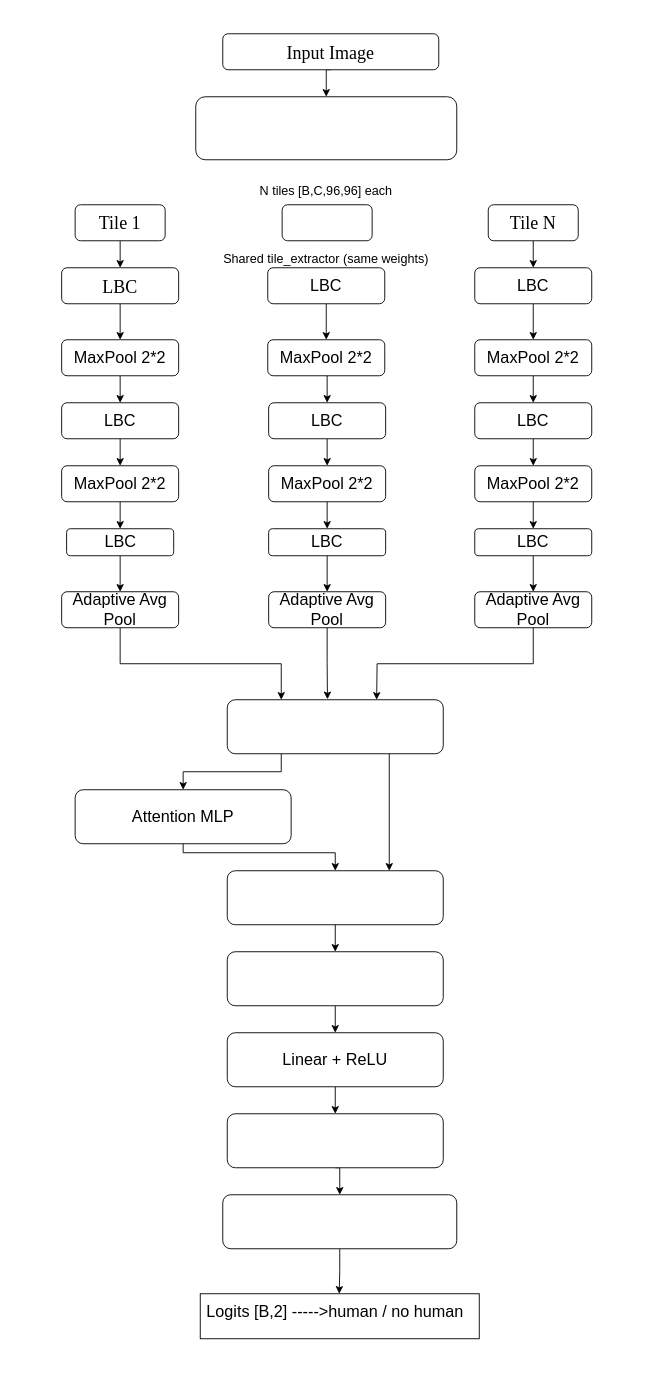
Image size: 671x1382. Some labels were removed from this diagram. Each missing label, with the centre of its shape:
Aggregated Vector: the point at 334,978
Dropout: the point at 334,1140
Linear 32 ---->num_classes(2): the point at 339,1221
Stack + Reshape: the point at 334,726
Tile 2: the point at 326,222
Tile Extraction 96x96, 25% overlap, Sliding window: the point at 326,128
Weighted Sum: the point at 334,897
